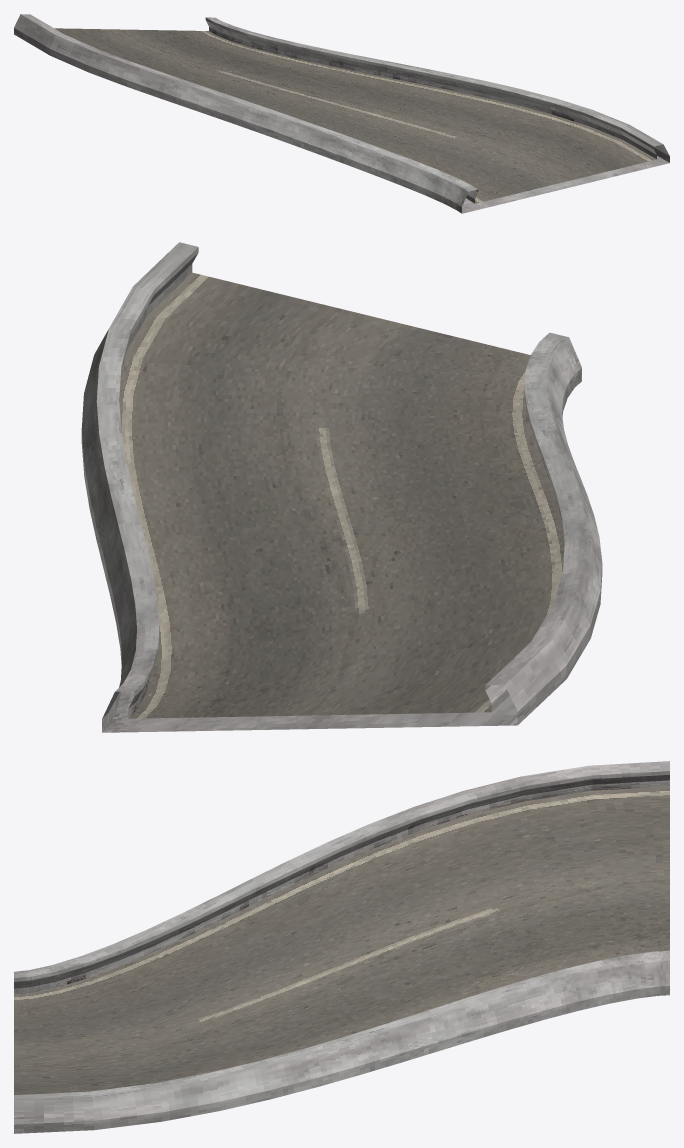
Rendered from chicane-left1x2.glb.
3 renders of one model, top to bottom at view 1: azimuth 30°, elevation 25°; view 2: azimuth 150°, elevation 25°; view 3: azimuth 270°, elevation 25°, orthographic. The views are drawn at different scales.
Parts seen in each view (by area): view 1: road-Chicane-Flat-HalfBankedRight-Even-Left1-Size2; view 2: road-Chicane-Flat-HalfBankedRight-Even-Left1-Size2; view 3: road-Chicane-Flat-HalfBankedRight-Even-Left1-Size2.
Part boxes in pixels (x1,y1,x2,y2): road-Chicane-Flat-HalfBankedRight-Even-Left1-Size2: (14,14,669,213); road-Chicane-Flat-HalfBankedRight-Even-Left1-Size2: (81,242,602,732); road-Chicane-Flat-HalfBankedRight-Even-Left1-Size2: (14,761,669,1133).
Bounding box in the file's own units: 2 × 0.3359 × 2.
2 materials, 2 textured.
